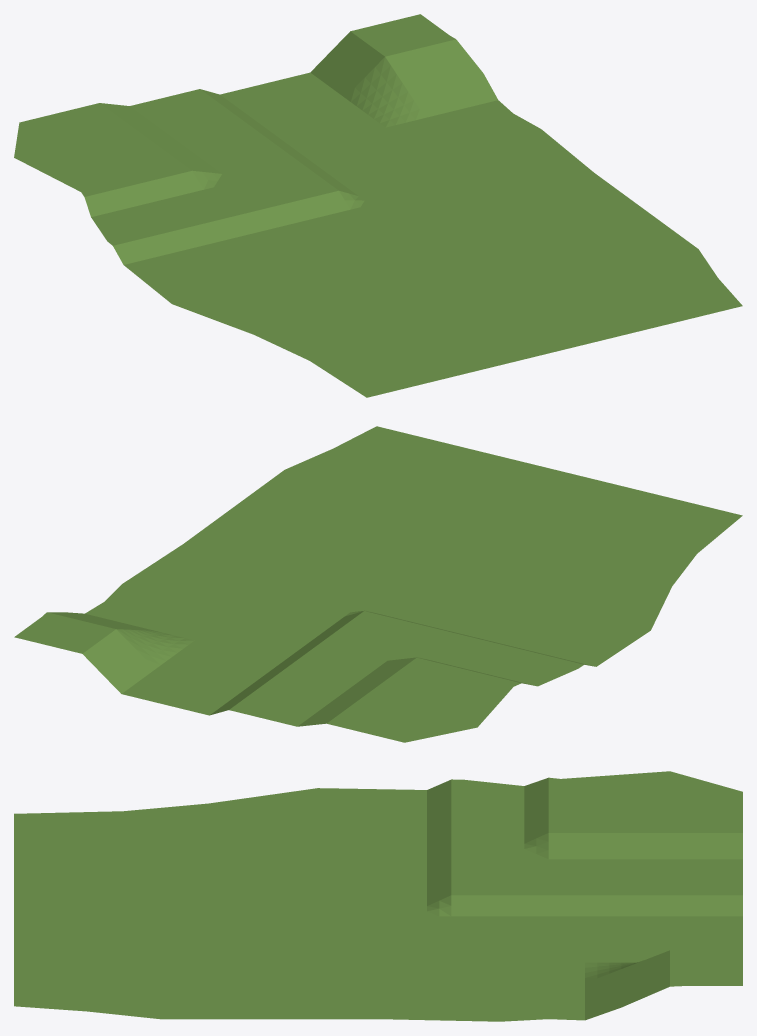
The model's file is westground.glb.
3 renders of one model, top to bottom at view 1: azimuth 30°, elevation 25°; view 2: azimuth 150°, elevation 25°; view 3: azimuth 270°, elevation 25°, orthographic. The views are drawn at different scales.
Visible parts, largest first — view 1: westground; view 2: westground; view 3: westground.
Boxes of the visible parts, bbox=[...] form: westground: bbox=[14, 14, 742, 397]; westground: bbox=[14, 426, 742, 742]; westground: bbox=[14, 771, 742, 1021].
Bounding box in the file's own units: 91 × 6 × 120.
